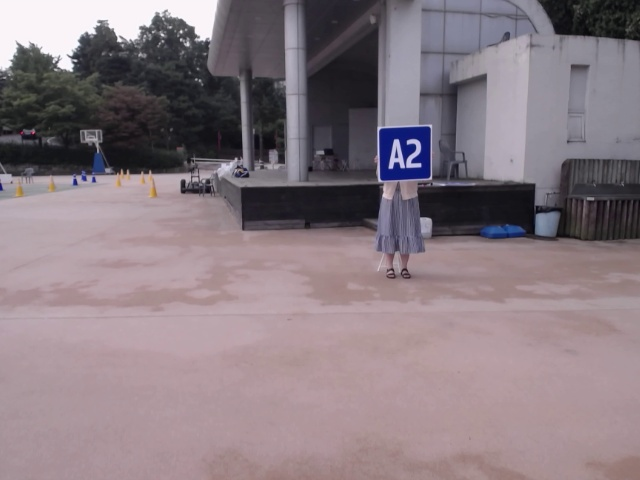delivery_a2: (378, 126, 431, 182)
